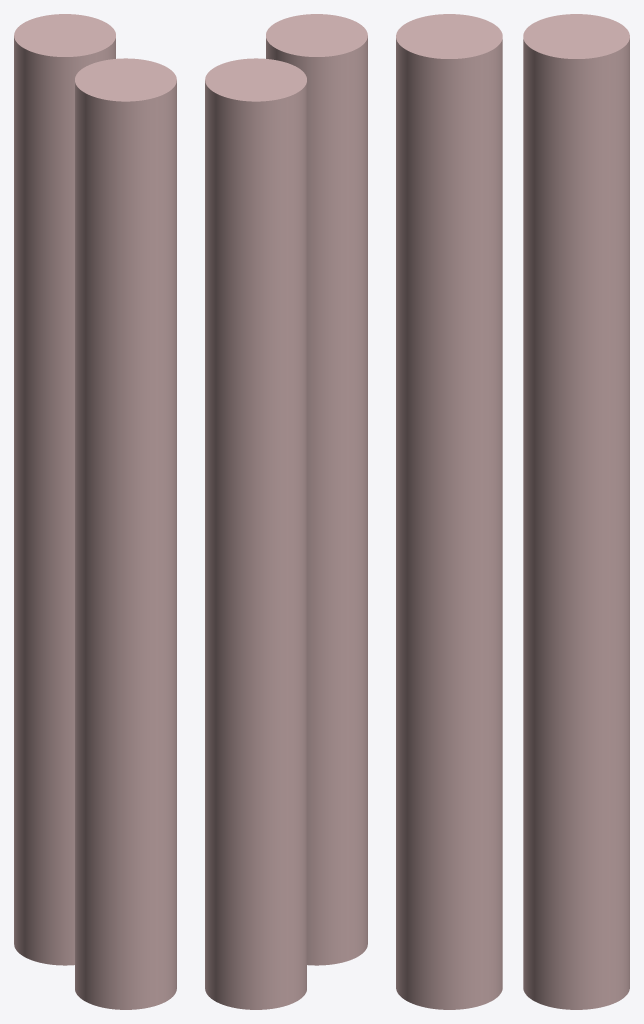
Rendered from OUTFITTING_INTERIOR__SHOWER AFT STBD__approx hose surfs.glb.
3 views of the same model, side by side, from view 1: azimuth 30°, elevation 25°; view 2: azimuth 150°, elevation 25°; view 3: azimuth 270°, elevation 25° (orthographic). The views are drawn at different scales.
Parts seen in each view (by area): view 1: approx hose surfs; view 2: approx hose surfs; view 3: approx hose surfs.
Part boxes in pixels (bbox=[...]): approx hose surfs: bbox=[14, 14, 176, 1009]; approx hose surfs: bbox=[205, 14, 367, 1009]; approx hose surfs: bbox=[396, 14, 629, 1009].
Size of the model in its own units: 0.0213 by 0.2096 by 0.0467.
